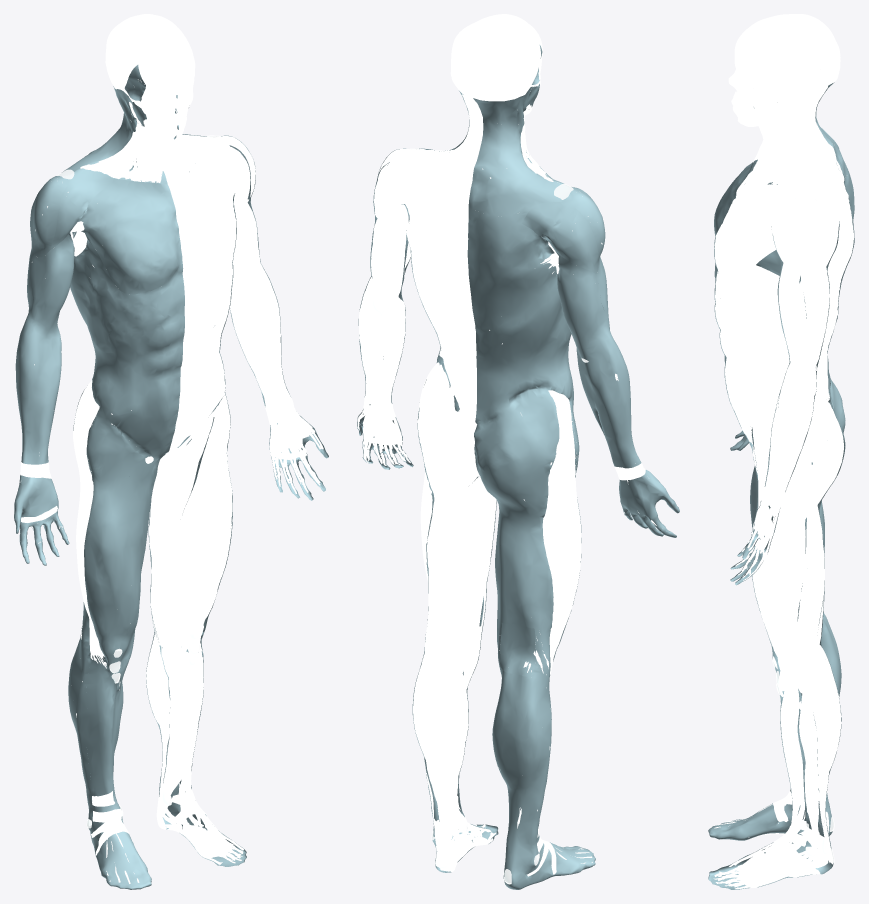
The model's file is muscles_q.glb.
3 views of the same model, side by side, from view 1: azimuth 30°, elevation 25°; view 2: azimuth 150°, elevation 25°; view 3: azimuth 270°, elevation 25° (orthographic). The views are drawn at different scales.
Visible parts, largest first — view 1: M267, M519, M525, M249, M257, M385, M229, M383, M428, M433, M384, M518 (+28 smaller); view 2: M267, M519, M525, M147, M518, M222, M385, M207, M383, M410, M474, M384 (+21 smaller); view 3: M257, M520, M229, M27, M450, M410, M525, M29, M473, M139, M342, M282 (+44 smaller).
Part boxes in pixels (bbox=[...]): M267: bbox=[70, 239, 184, 457]; M519: bbox=[73, 389, 165, 658]; M525: bbox=[68, 638, 151, 889]; M249: bbox=[78, 178, 182, 294]; M257: bbox=[173, 263, 232, 442]; M385: bbox=[15, 315, 61, 464]; M229: bbox=[176, 181, 237, 274]; M383: bbox=[30, 169, 113, 257]; M428: bbox=[185, 414, 231, 665]; M433: bbox=[156, 395, 223, 675]; M384: bbox=[27, 232, 74, 329]; M518: bbox=[73, 380, 106, 668]; M267: bbox=[467, 207, 573, 426]; M519: bbox=[474, 389, 581, 677]; M525: bbox=[492, 666, 595, 889]; M147: bbox=[468, 86, 570, 216]; M518: bbox=[542, 390, 581, 677]; M222: bbox=[405, 213, 476, 422]; M385: bbox=[575, 330, 641, 468]; M207: bbox=[416, 171, 475, 325]; M383: bbox=[521, 173, 605, 274]; M410: bbox=[417, 387, 478, 500]; M474: bbox=[432, 634, 468, 772]; M384: bbox=[555, 251, 609, 347]; M257: bbox=[715, 265, 789, 441]; M520: bbox=[768, 411, 812, 688]; M229: bbox=[714, 180, 774, 277]; M27: bbox=[738, 18, 840, 78]; M450: bbox=[800, 506, 824, 693]; M410: bbox=[805, 393, 843, 518]; M525: bbox=[708, 618, 841, 840]; M29: bbox=[759, 46, 821, 96]; M473: bbox=[813, 648, 841, 774]; M139: bbox=[737, 113, 805, 190]; M342: bbox=[773, 319, 808, 493]; M282: bbox=[783, 200, 817, 283].
Size of the model in its own units: 0.6708 by 1.7 by 0.2685.
